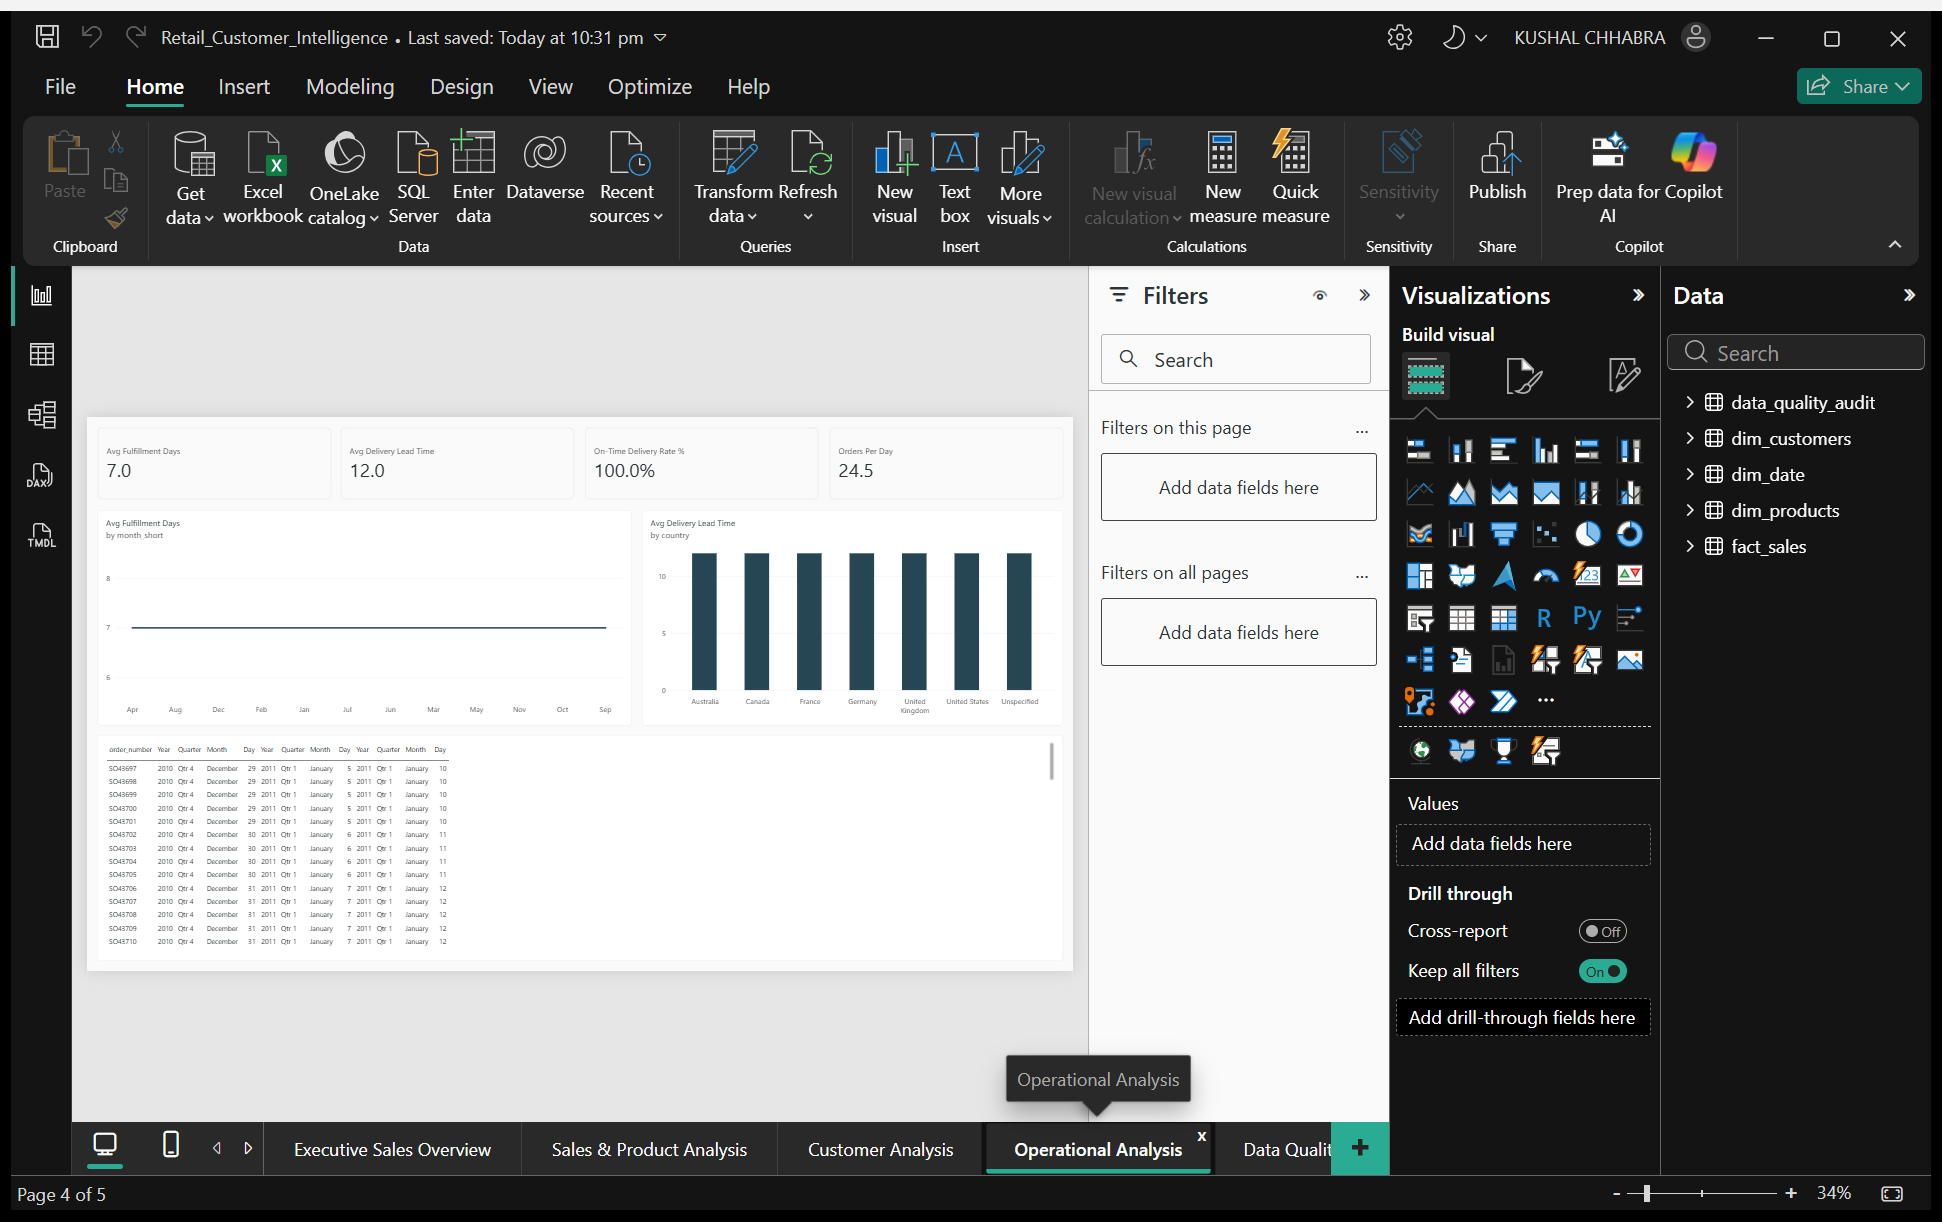

This screenshot's page, from the dashboard's own definition file:
{"tool":"powerbi","page":{"name":"Operational Analysis","canvas":[1920,1080],"ordinal":3},"visuals":[{"type":"cardVisual","fields":{"Data":["fact_sales.Avg Fulfillment Days"]},"box":[20,20,455,140],"z":0},{"type":"cardVisual","fields":{"Data":["fact_sales.Avg Delivery Lead Time"]},"box":[495,20,455,140],"z":1},{"type":"cardVisual","fields":{"Data":["fact_sales.On-Time Delivery Rate %"]},"box":[970,20,455,140],"z":2},{"type":"cardVisual","fields":{"Data":["fact_sales.Orders Per Day"]},"box":[1445,20,455,140],"z":3},{"type":"lineChart","fields":{"Category":["dim_date.month_short"],"Y":["fact_sales.Avg Fulfillment Days"]},"box":[20,180,1040,420],"z":4},{"type":"columnChart","fields":{"Category":["dim_customers.country"],"Y":["fact_sales.Avg Delivery Lead Time"]},"box":[1080,180,820,420],"z":5},{"type":"tableEx","fields":{"Values":["fact_sales.order_number","fact_sales.order_date.Variation.Date Hierarchy.Year","fact_sales.order_date.Variation.Date Hierarchy.Quarter","fact_sales.order_date.Variation.Date Hierarchy.Month","fact_sales.order_date.Variation.Date Hierarchy.Day","fact_sales.shipping_date.Variation.Date Hierarchy.Year","fact_sales.shipping_date.Variation.Date Hierarchy.Quarter","fact_sales.shipping_date.Variation.Date Hierarchy.Month","fact_sales.shipping_date.Variation.Date Hierarchy.Day","fact_sales.due_date.Variation.Date Hierarchy.Year","fact_sales.due_date.Variation.Date Hierarchy.Quarter","fact_sales.due_date.Variation.Date Hierarchy.Month"]},"box":[20,620,1880,440],"z":6}]}

Visuals, with their boxes on the page's 1920x1080 design canvas (x1, y1, x2, y2). These are canvas units, not pixel positions in the 1942x1222 screenshot, which may show the page scaled, cropped or inside an application window:
cardVisual - fact_sales.Avg Fulfillment Days: BBox(20, 20, 475, 160)
cardVisual - fact_sales.Avg Delivery Lead Time: BBox(495, 20, 950, 160)
cardVisual - fact_sales.On-Time Delivery Rate %: BBox(970, 20, 1425, 160)
cardVisual - fact_sales.Orders Per Day: BBox(1445, 20, 1900, 160)
lineChart - dim_date.month_short x fact_sales.Avg Fulfillment Days: BBox(20, 180, 1060, 600)
columnChart - dim_customers.country x fact_sales.Avg Delivery Lead Time: BBox(1080, 180, 1900, 600)
tableEx - fact_sales.order_number x fact_sales.order_date.Variation.Date Hierarchy.Year: BBox(20, 620, 1900, 1060)
